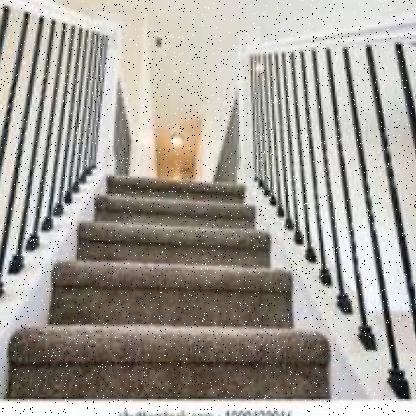stair_up: (18, 197, 312, 366)
